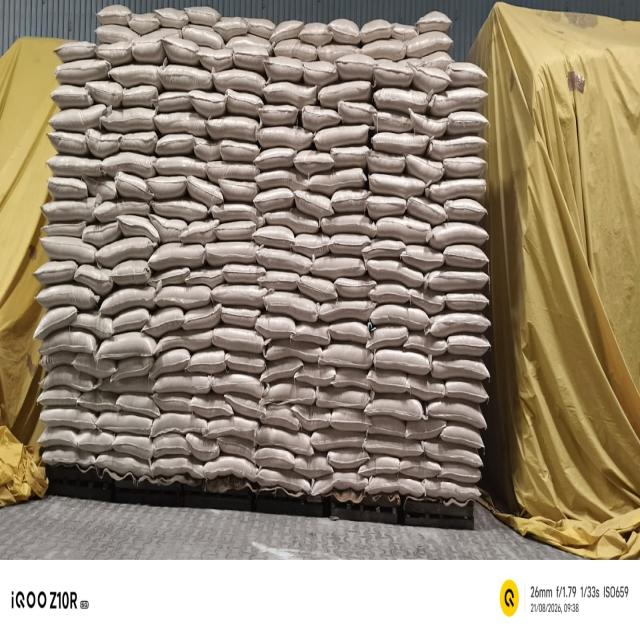Sack-2: (99, 101, 162, 142), (260, 203, 317, 238), (366, 252, 424, 286), (98, 330, 154, 364), (264, 291, 316, 327), (97, 234, 156, 265), (427, 438, 486, 468), (161, 60, 210, 95), (259, 384, 322, 411), (110, 62, 163, 94), (147, 244, 203, 274), (187, 88, 229, 127), (440, 148, 498, 176), (367, 168, 425, 196), (35, 366, 97, 392), (39, 236, 98, 263), (317, 297, 373, 325), (254, 242, 310, 270), (52, 54, 112, 80), (151, 110, 211, 136), (205, 239, 262, 266), (32, 300, 77, 334), (88, 198, 154, 221), (370, 309, 433, 333), (37, 282, 95, 308), (101, 284, 158, 310), (377, 215, 429, 243), (367, 394, 419, 422), (430, 132, 488, 157), (432, 313, 492, 337), (422, 476, 482, 500), (260, 428, 320, 452), (95, 452, 148, 479), (430, 359, 495, 381), (208, 326, 263, 352), (46, 107, 110, 129), (318, 121, 370, 148), (208, 68, 262, 94), (154, 153, 206, 180), (422, 404, 492, 424), (204, 160, 260, 185), (310, 166, 365, 191), (376, 89, 430, 114), (32, 258, 83, 284), (256, 101, 301, 130), (430, 226, 492, 247), (322, 78, 372, 104), (371, 132, 430, 154), (264, 78, 312, 105), (86, 126, 121, 163), (310, 430, 366, 453), (149, 416, 207, 438), (150, 347, 194, 376), (213, 115, 260, 142), (254, 308, 292, 341), (444, 378, 492, 404), (152, 200, 206, 223), (48, 157, 104, 179), (259, 124, 315, 146), (314, 392, 375, 412), (311, 475, 364, 498), (117, 85, 162, 112), (294, 402, 333, 433), (299, 358, 338, 389), (404, 152, 444, 182), (109, 261, 149, 291), (34, 330, 97, 349), (408, 31, 454, 57), (258, 469, 312, 491), (227, 88, 263, 121), (157, 286, 211, 308), (210, 283, 266, 304), (157, 130, 199, 158), (267, 341, 325, 361), (323, 232, 371, 256), (443, 335, 493, 358), (48, 83, 92, 109), (156, 377, 210, 398), (222, 391, 264, 418), (109, 355, 151, 382), (72, 309, 114, 336), (215, 138, 264, 161), (155, 461, 206, 483), (402, 243, 445, 269), (360, 234, 403, 260), (191, 392, 234, 418), (294, 187, 331, 217), (253, 185, 294, 212), (227, 36, 273, 60), (434, 87, 489, 107), (320, 345, 370, 367), (206, 461, 261, 481), (365, 192, 407, 218), (273, 39, 315, 65), (448, 60, 488, 87), (370, 367, 408, 395), (40, 407, 96, 426), (188, 172, 220, 205), (424, 272, 494, 287), (334, 275, 376, 300), (100, 156, 158, 174), (404, 414, 444, 440), (320, 191, 372, 211), (152, 434, 189, 462), (314, 255, 363, 276), (409, 109, 447, 136), (407, 196, 445, 223), (182, 23, 223, 48), (87, 176, 119, 208), (116, 393, 160, 416), (439, 246, 495, 264), (209, 375, 265, 393), (144, 304, 180, 332), (429, 180, 488, 197), (85, 220, 122, 247), (256, 358, 299, 381), (43, 175, 86, 198), (256, 144, 294, 170), (48, 36, 97, 56), (94, 1, 130, 28), (132, 35, 168, 62), (182, 0, 219, 26), (375, 59, 410, 86), (89, 77, 124, 104), (182, 218, 217, 245), (372, 350, 431, 366), (155, 332, 214, 348), (94, 20, 141, 40), (298, 276, 334, 302), (303, 60, 339, 86), (97, 416, 155, 432), (48, 132, 90, 154), (116, 221, 160, 242), (406, 286, 444, 310), (180, 306, 223, 327), (208, 13, 249, 35), (40, 203, 96, 219), (144, 311, 177, 338), (237, 48, 271, 74), (450, 109, 492, 130), (146, 179, 190, 199), (122, 131, 160, 154), (77, 355, 113, 379), (165, 35, 197, 62), (326, 324, 371, 343), (213, 208, 266, 224), (153, 216, 188, 240), (118, 177, 149, 204), (374, 109, 412, 131), (34, 427, 78, 446), (300, 105, 338, 127), (114, 433, 150, 456), (150, 268, 191, 288), (295, 234, 329, 258), (440, 428, 485, 446), (296, 147, 326, 174), (241, 13, 276, 36), (153, 394, 193, 414), (319, 216, 366, 233), (369, 152, 407, 173), (214, 438, 256, 457), (447, 293, 491, 311), (299, 18, 332, 42), (36, 448, 80, 466), (77, 431, 113, 453), (325, 144, 364, 164), (327, 452, 368, 471), (337, 99, 374, 120), (220, 180, 257, 201), (411, 377, 442, 402), (405, 334, 448, 352), (329, 16, 364, 38), (115, 311, 147, 335), (369, 284, 407, 304), (256, 449, 294, 469), (362, 38, 404, 56), (334, 58, 376, 76), (330, 411, 372, 429), (292, 456, 334, 474), (417, 62, 447, 87), (193, 349, 224, 373), (256, 173, 313, 186), (196, 46, 233, 66), (223, 265, 264, 283), (271, 58, 303, 81), (78, 263, 110, 286), (98, 379, 154, 392), (442, 202, 487, 218), (366, 439, 421, 452), (257, 409, 299, 426), (228, 354, 262, 375), (151, 91, 193, 108), (359, 14, 390, 37), (217, 309, 264, 324), (38, 351, 82, 367), (32, 392, 82, 406), (124, 8, 157, 29), (254, 228, 300, 243), (368, 416, 406, 434), (362, 458, 400, 476), (418, 11, 452, 31), (152, 3, 186, 23), (369, 330, 406, 348), (204, 420, 259, 432), (190, 270, 223, 290), (268, 19, 304, 37), (80, 394, 114, 413), (316, 44, 359, 59), (258, 270, 298, 286), (399, 460, 434, 478), (438, 465, 482, 479), (193, 138, 221, 160), (293, 326, 327, 344), (331, 371, 373, 385), (214, 225, 255, 239), (367, 476, 398, 494), (391, 19, 416, 40), (424, 49, 449, 69), (187, 437, 217, 452), (398, 478, 420, 498), (393, 54, 423, 68), (98, 42, 128, 56), (150, 24, 182, 36), (40, 227, 86, 234)
